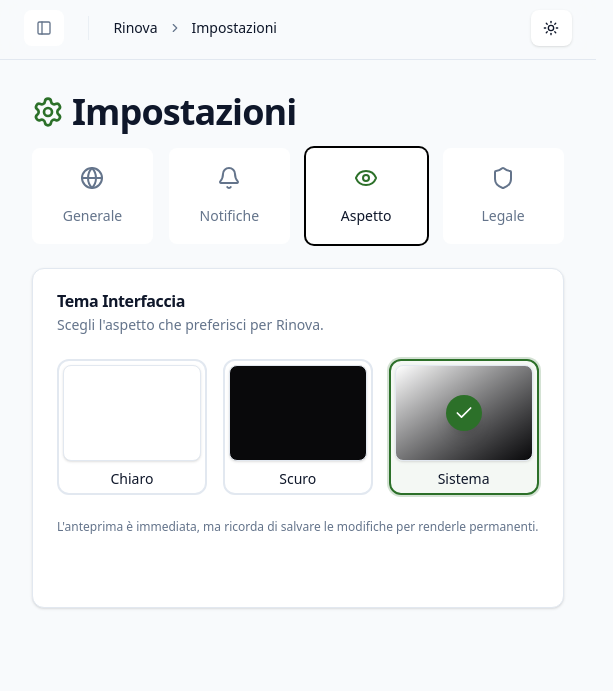
Test case: SettingsPage › shows "Unsaved Changes" footer when modified
Click the button "Notifiche" at (229, 196), box top-left (169, 148), bottom-right (290, 244)
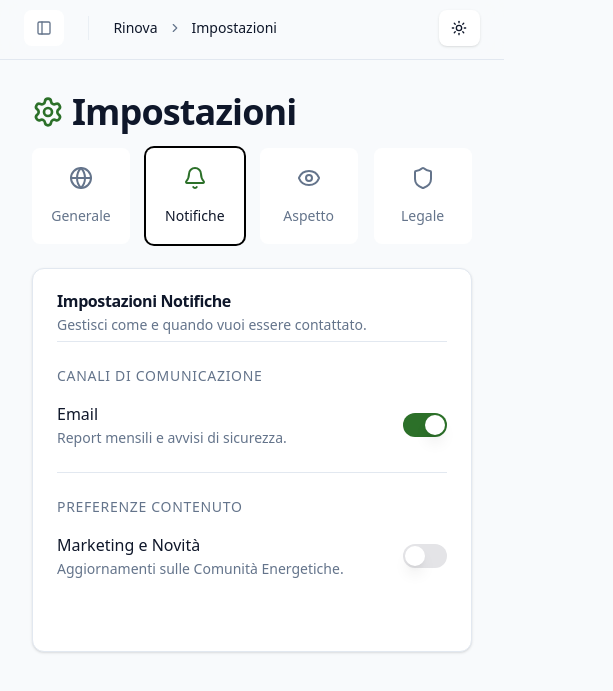
// Toggle switch
Click the switch next to "Report mensili e avvisi di sicurezza." at (424, 425), box top-left (402, 413), bottom-right (446, 437)
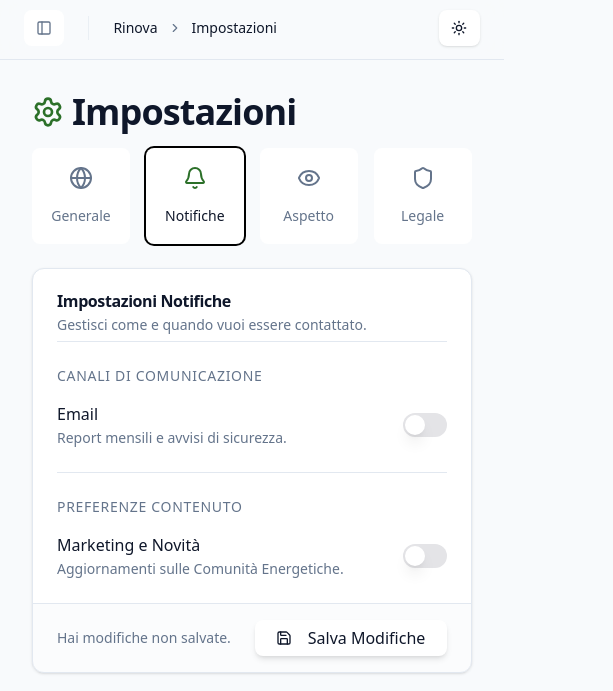
Expected: the text "Hai modifiche non salvate." is shown, top-left (57, 628), bottom-right (231, 648)
